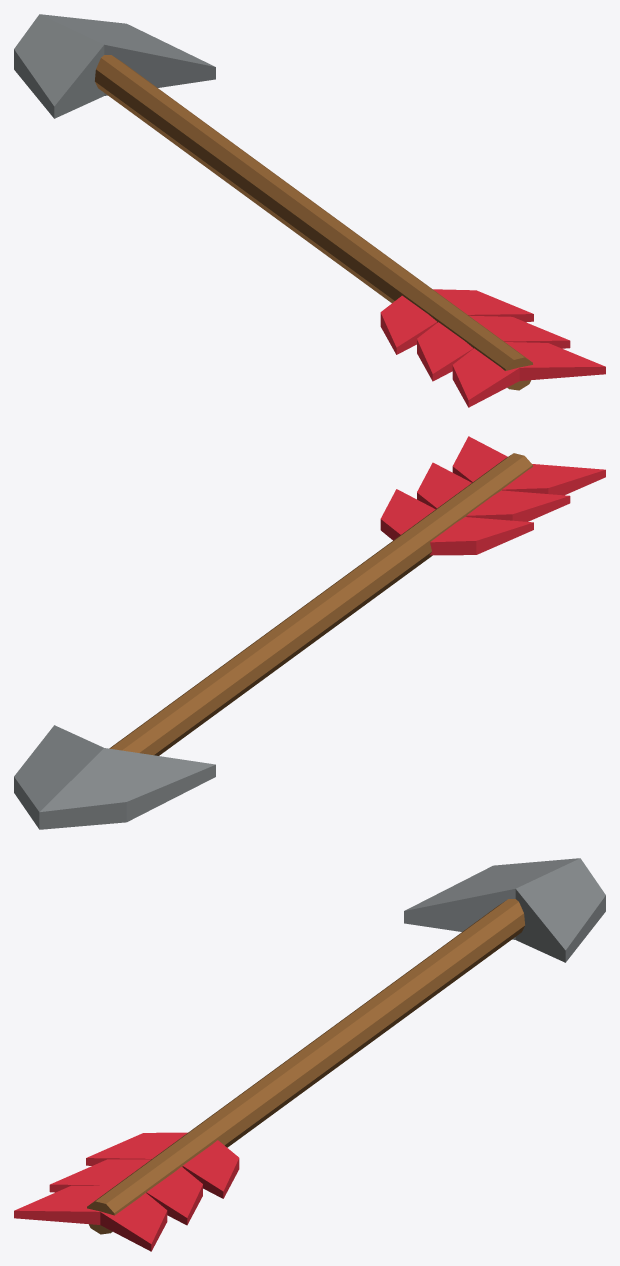
The model's file is frecca.fbx.
The picture shows the model from 3 angles, top to bottom: view 1: azimuth 30°, elevation 25°; view 2: azimuth 150°, elevation 25°; view 3: azimuth 330°, elevation 25°; orthographic projection.
Visible parts, largest first — view 1: Cylinder.002; view 2: Cylinder.002; view 3: Cylinder.002.
Part boxes in pixels (<box>): Cylinder.002: <box>14,14,605,407</box>; Cylinder.002: <box>14,436,605,829</box>; Cylinder.002: <box>14,858,605,1251</box>.
Size of the model in its own units: 41.15 by 12.48 by 219.
